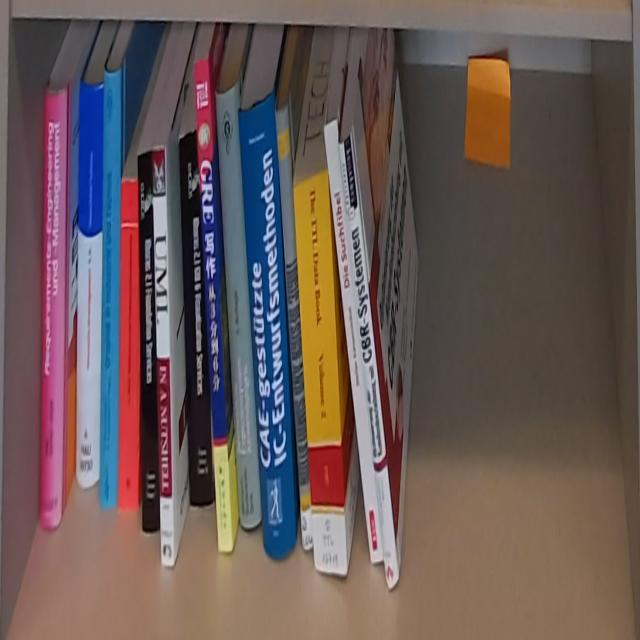Book Spine: (339, 131, 399, 591), (239, 91, 297, 560), (324, 117, 384, 564), (295, 170, 348, 577), (216, 80, 262, 531), (195, 58, 233, 552), (275, 101, 313, 553), (39, 83, 70, 528), (180, 129, 214, 508), (76, 79, 105, 489), (100, 64, 122, 508), (153, 146, 175, 567), (138, 150, 161, 534), (119, 179, 140, 512)
